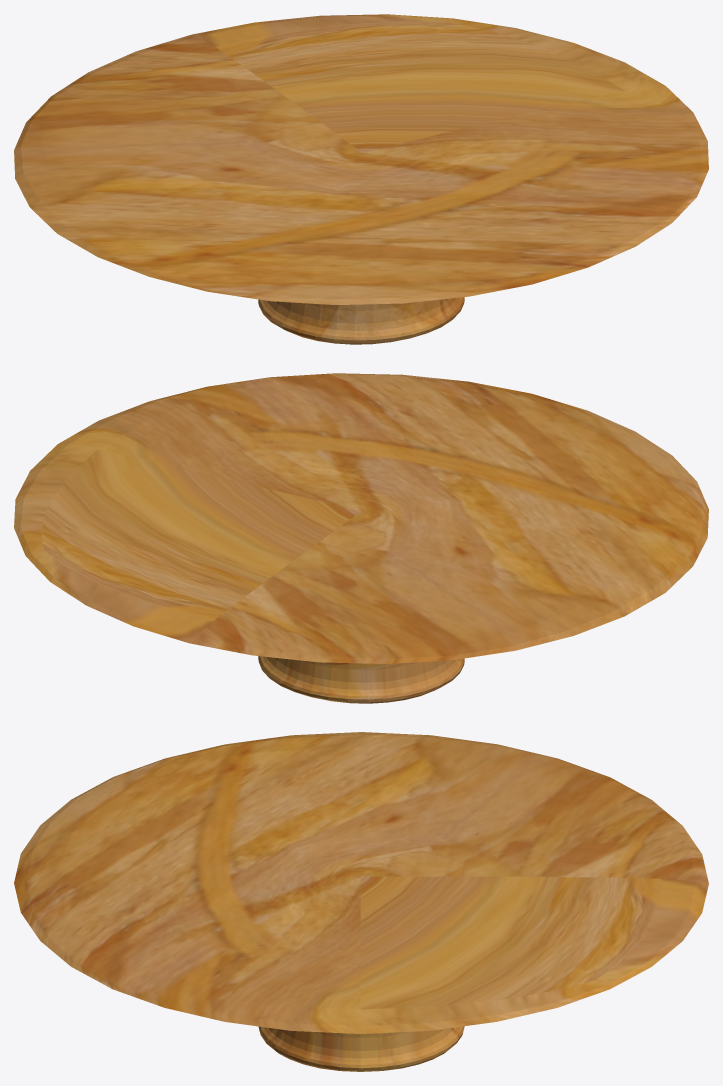
The model's file is table_c.dae.
The picture shows the model from 3 angles, top to bottom: view 1: azimuth 30°, elevation 25°; view 2: azimuth 150°, elevation 25°; view 3: azimuth 270°, elevation 25°; orthographic projection.
Parts seen in each view (by area): view 1: CircleTable-col; view 2: CircleTable-col; view 3: CircleTable-col.
Part boxes in pixels (box(x1,y1,x2,y2)): CircleTable-col: box(14, 14, 708, 344); CircleTable-col: box(14, 373, 708, 703); CircleTable-col: box(14, 732, 708, 1071).
Size of the model in its own units: 3.81 by 3.7 by 0.9304.
1 material, 1 textured.
